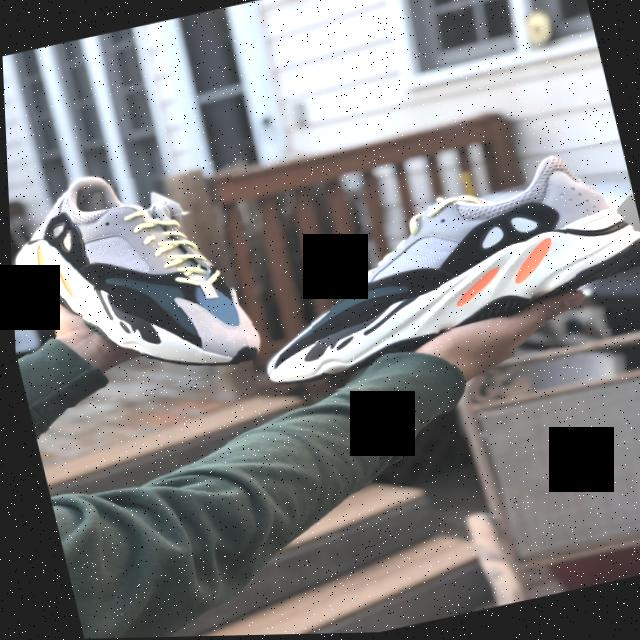shoe: (215, 141, 640, 409), (5, 142, 274, 415)
